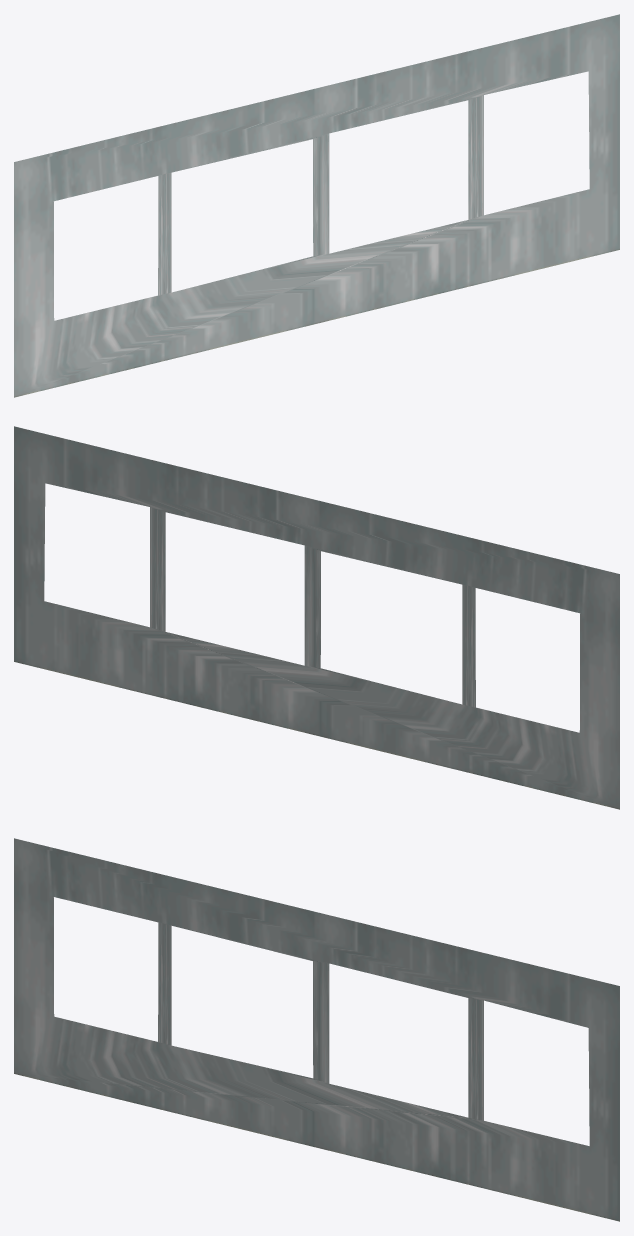
Rendered from W_AI_Brücke_1339.glb.
3 renders of one model, top to bottom at view 1: azimuth 30°, elevation 25°; view 2: azimuth 150°, elevation 25°; view 3: azimuth 330°, elevation 25°, orthographic.
Visible parts, largest first — view 1: polySurfaceShape786; view 2: polySurfaceShape786; view 3: polySurfaceShape786.
Part boxes in pixels (x1,y1,x2,y2): polySurfaceShape786: [14, 14, 619, 397]; polySurfaceShape786: [14, 426, 619, 809]; polySurfaceShape786: [14, 838, 619, 1221].
Size of the model in its own units: 0.9385 by 0.3486 by 1.31e-07.
Materials: 1 (1 with a texture image).
